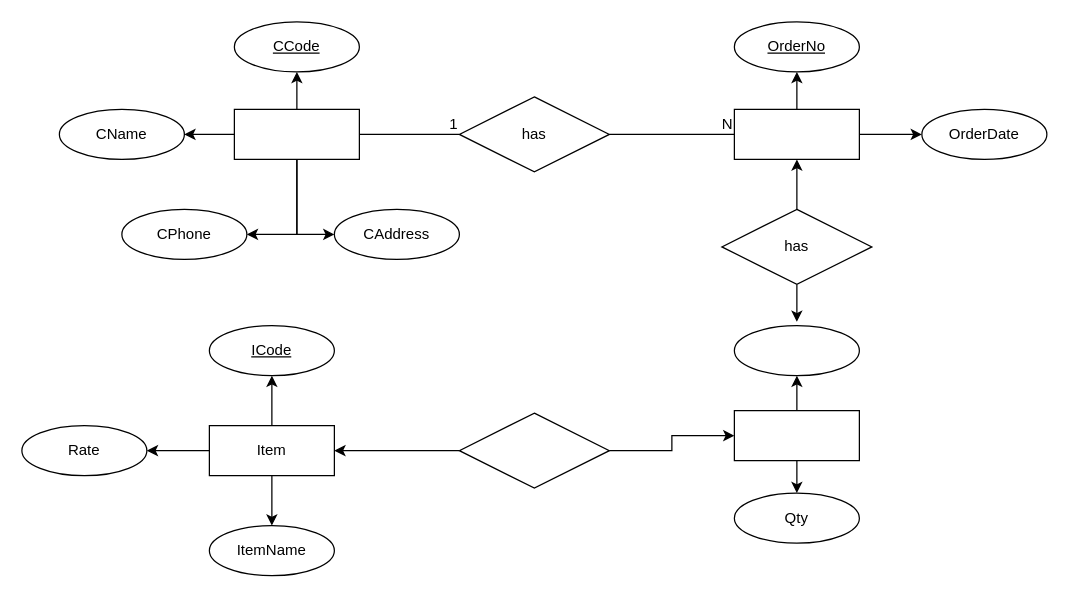
The diagram is 1069 pixels wide and 598 high, and some of its shapes have lost their labels. The centre of each missing label's shape, as x and y in pixels:
"be in" belongs at (x=533, y=450).
"Customer" belongs at (x=296, y=133).
"OrderDetail" belongs at (x=796, y=435).
"OrderMaster" belongs at (x=796, y=133).
"SrNo" belongs at (x=796, y=350).
